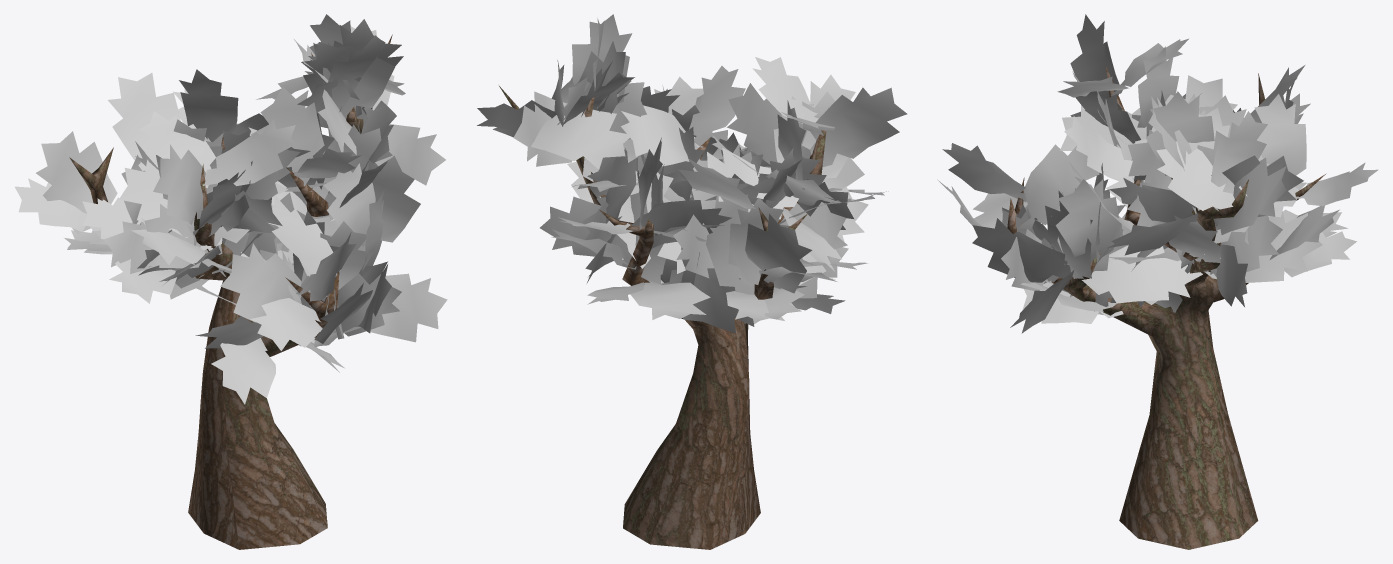
The model's file is tree2.fbx.
3 renders of one model, left to right at view 1: azimuth 30°, elevation 25°; view 2: azimuth 150°, elevation 25°; view 3: azimuth 270°, elevation 25°, orthographic.
Visible parts, largest first — view 1: Cube.016; view 2: Cube.016; view 3: Cube.016.
Boxes of the visible parts, <box> form: Cube.016: <box>15,14,447,549</box>; Cube.016: <box>477,14,907,549</box>; Cube.016: <box>937,14,1378,549</box>.
Size of the model in its own units: 10662 by 13308 by 11246.
